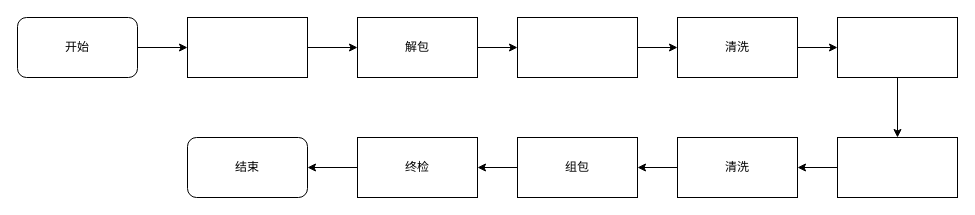
The diagram is 975 pixels wide and 215 high, and some of its shapes have lost their labels. Here are the shapes that lost their labels. From the top down, the box of each, then its label:
(186, 16, 308, 78): 输入检
(516, 16, 638, 78): 预检
(836, 16, 958, 78): 解析
(836, 136, 958, 198): 目标格式质检
